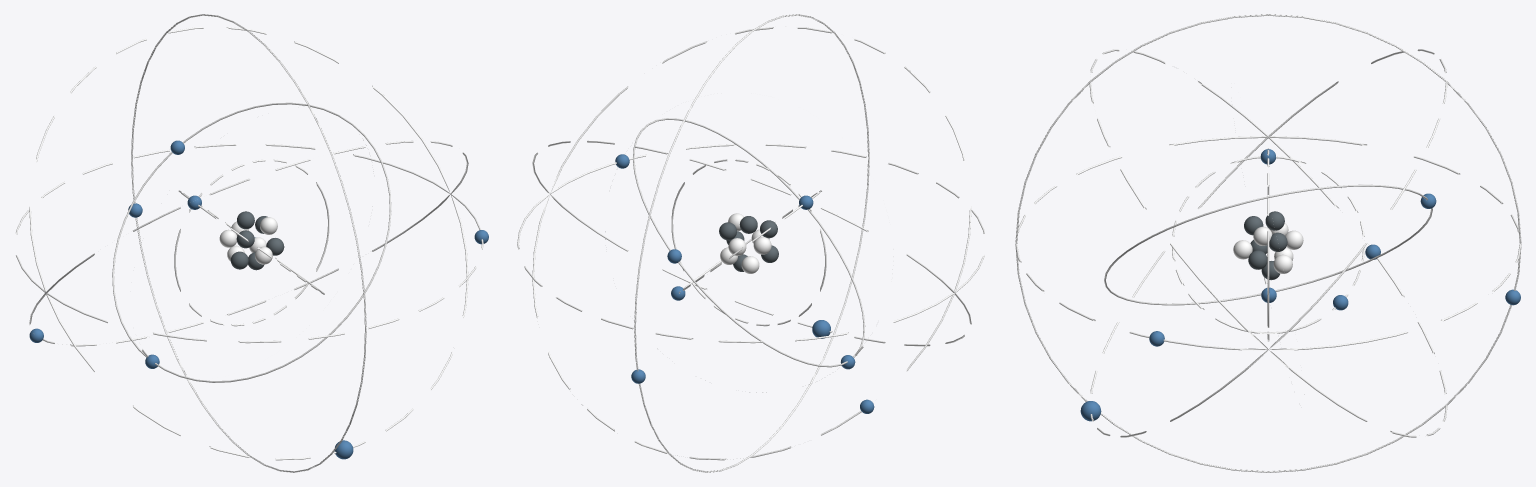
The model's file is Bohrsches-Model.gltf.
3 views of the same model, side by side, from view 1: azimuth 30°, elevation 25°; view 2: azimuth 150°, elevation 25°; view 3: azimuth 270°, elevation 25° (orthographic). The views are drawn at different scales.
Parts seen in each view (by area): view 1: 3.4, 3.1, 12, 2.1, 3.3, 3.2, 1.1; view 2: 3.4, 3.2, 12, 3.3, 2.1, 3.1, 1.1; view 3: 3.4, 12, 3.3, 3.1, 3.2, 2.1, 1.2.
Boxes of the visible parts, x1,y1,x2,y2 form: 3.4: (131, 14, 366, 472); 3.1: (29, 27, 468, 460); 12: (219, 211, 284, 269); 2.1: (112, 102, 391, 382); 3.3: (15, 144, 483, 343); 3.2: (29, 140, 468, 346); 1.1: (174, 159, 329, 326); 3.4: (634, 14, 869, 472); 3.2: (532, 26, 971, 460); 12: (719, 216, 778, 273); 3.3: (517, 144, 984, 343); 2.1: (633, 118, 865, 367); 3.1: (532, 140, 971, 346); 1.1: (671, 159, 826, 326); 3.4: (1015, 14, 1521, 472); 12: (1233, 211, 1303, 273); 3.3: (1015, 136, 1521, 350); 3.1: (1090, 49, 1447, 437); 3.2: (1089, 49, 1447, 437); 2.1: (1104, 184, 1432, 305); 1.2: (1172, 156, 1364, 334).
Bounding box in the file's own units: 10.57 × 10.57 × 10.57.
4 materials, 1 textured.
